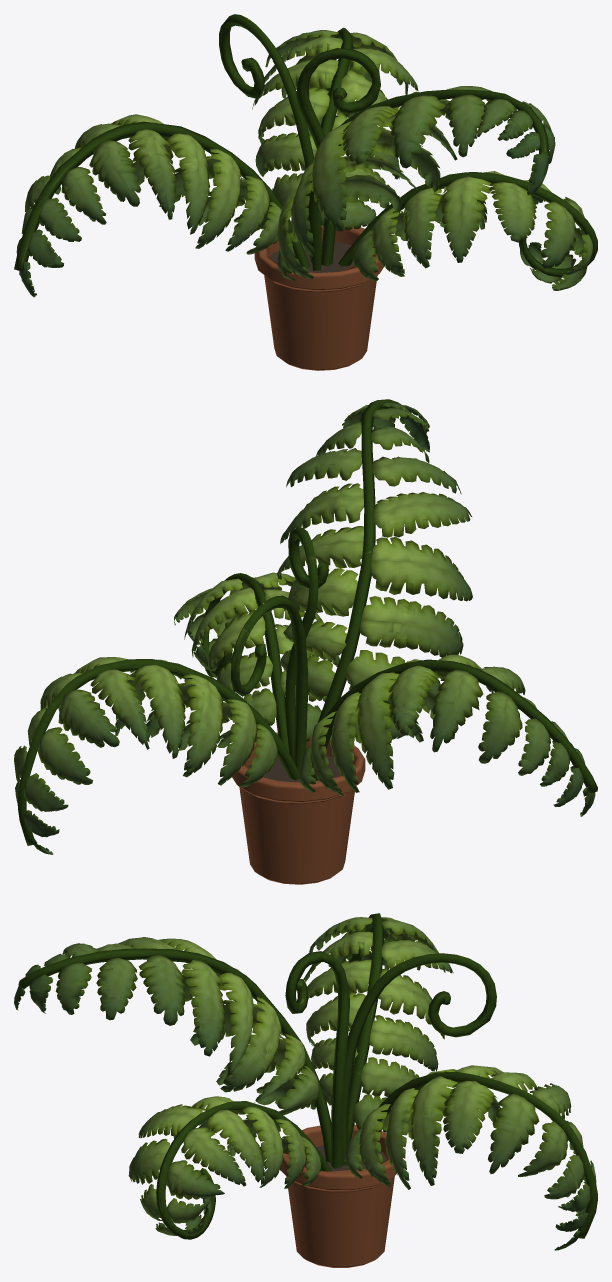
Rendered from plant2.lod1.glb.
The picture shows the model from 3 angles, top to bottom: view 1: azimuth 30°, elevation 25°; view 2: azimuth 150°, elevation 25°; view 3: azimuth 270°, elevation 25°; orthographic projection. The views are drawn at different scales.
Visible parts, largest first — view 1: Potted Plant - Bracken.001; view 2: Potted Plant - Bracken.001; view 3: Potted Plant - Bracken.001.
Boxes of the visible parts, x1,y1,x2,y2 form: Potted Plant - Bracken.001: (14, 14, 597, 370); Potted Plant - Bracken.001: (14, 399, 597, 884); Potted Plant - Bracken.001: (14, 913, 597, 1267).
Size of the model in its own units: 0.6265 by 0.4172 by 0.6785.
3 materials, 1 textured.
